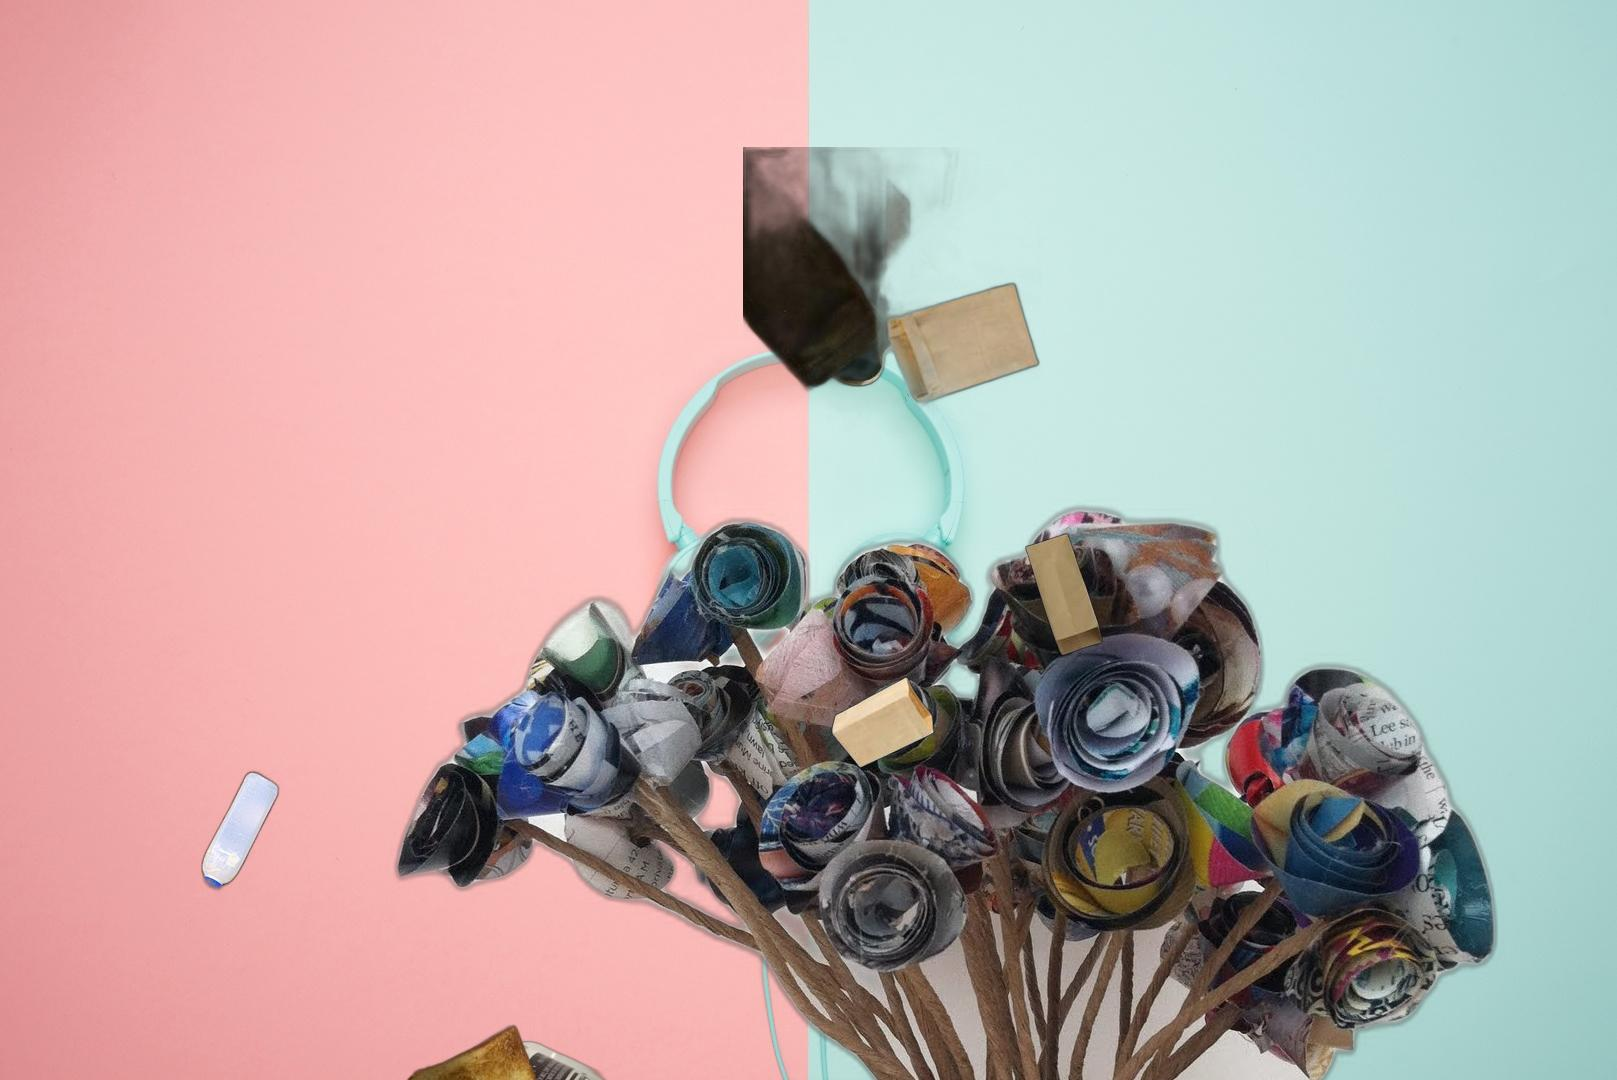biological: (405, 1023, 588, 1080)
glass: (414, 1039, 814, 1080)
paper-bag: (753, 652, 1053, 952), (743, 147, 1043, 447), (1022, 530, 1104, 657)
plastic-bottles: (197, 766, 282, 894)
trashbox-cardboard: (386, 493, 1505, 1080)
